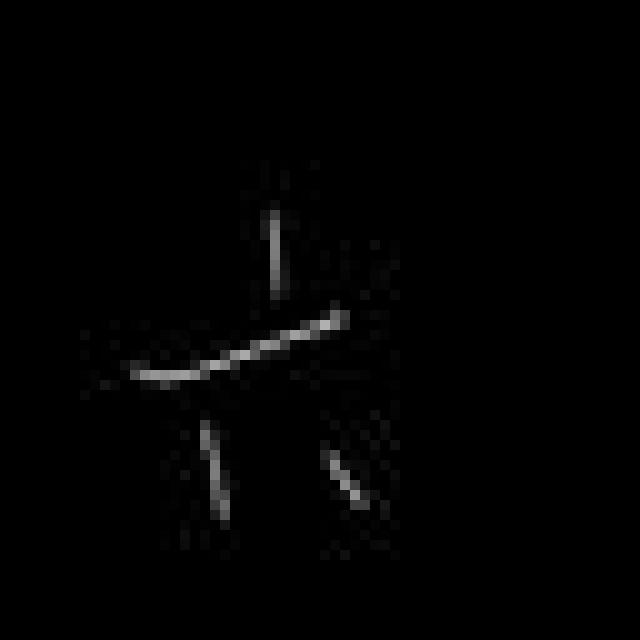6 -six-: (127, 204, 376, 534)
